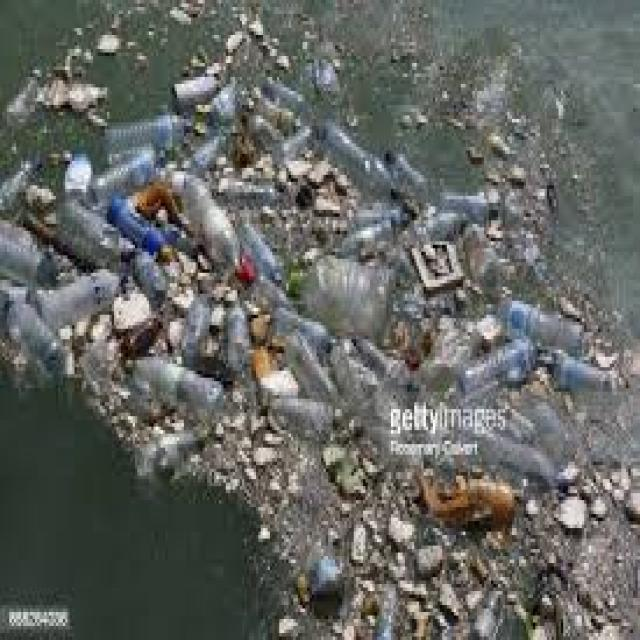litter: (254, 371, 354, 466), (118, 344, 225, 428), (287, 246, 395, 326), (309, 103, 399, 194), (184, 176, 257, 284), (36, 271, 134, 331), (499, 288, 583, 357), (89, 108, 195, 154), (0, 136, 42, 224), (464, 341, 518, 407), (436, 183, 501, 222)
